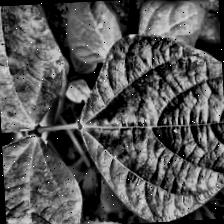Bean Rust: (77, 26, 224, 223), (0, 2, 68, 131), (1, 130, 82, 224), (66, 0, 121, 65), (136, 0, 206, 48), (187, 0, 220, 43)
